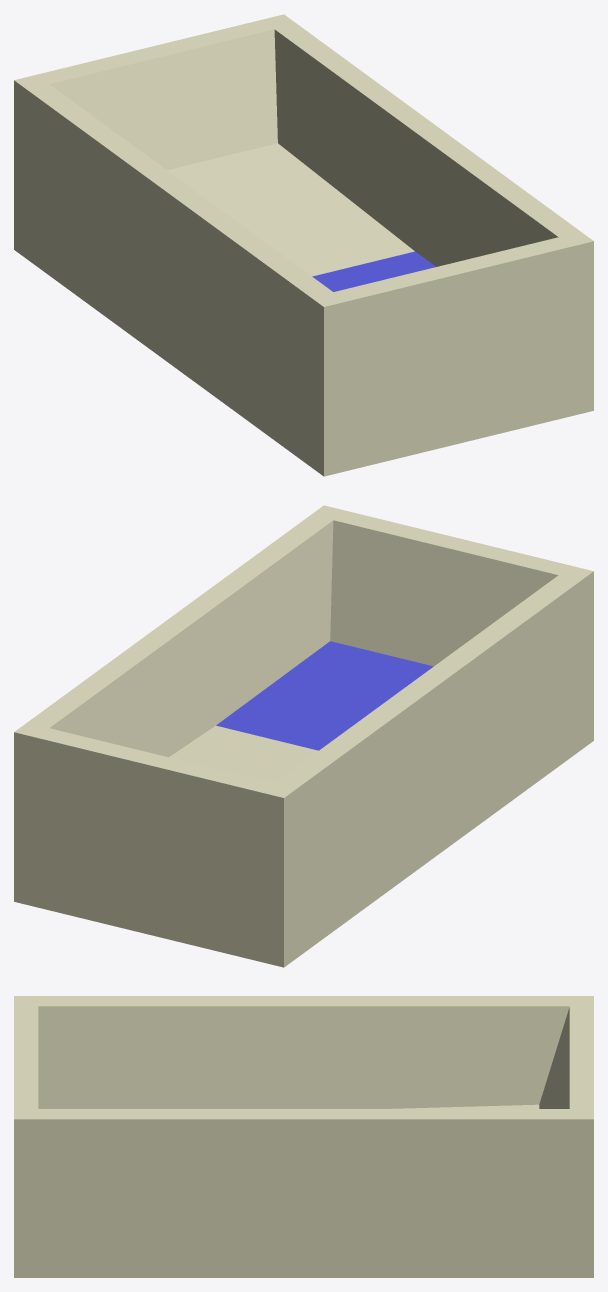
File: Bathtub.glb
3 renders of one model, top to bottom at view 1: azimuth 30°, elevation 25°; view 2: azimuth 150°, elevation 25°; view 3: azimuth 270°, elevation 25°, orthographic. The views are drawn at different scales.
Visible parts, largest first — view 1: Cube; view 2: Cube; view 3: Cube.
Boxes of the visible parts, left/top/right/bottom form: Cube: left=14, top=14, right=593, bottom=476; Cube: left=14, top=505, right=593, bottom=967; Cube: left=14, top=996, right=593, bottom=1277.
Size of the model in its own units: 2 by 1.2 by 3.98.
